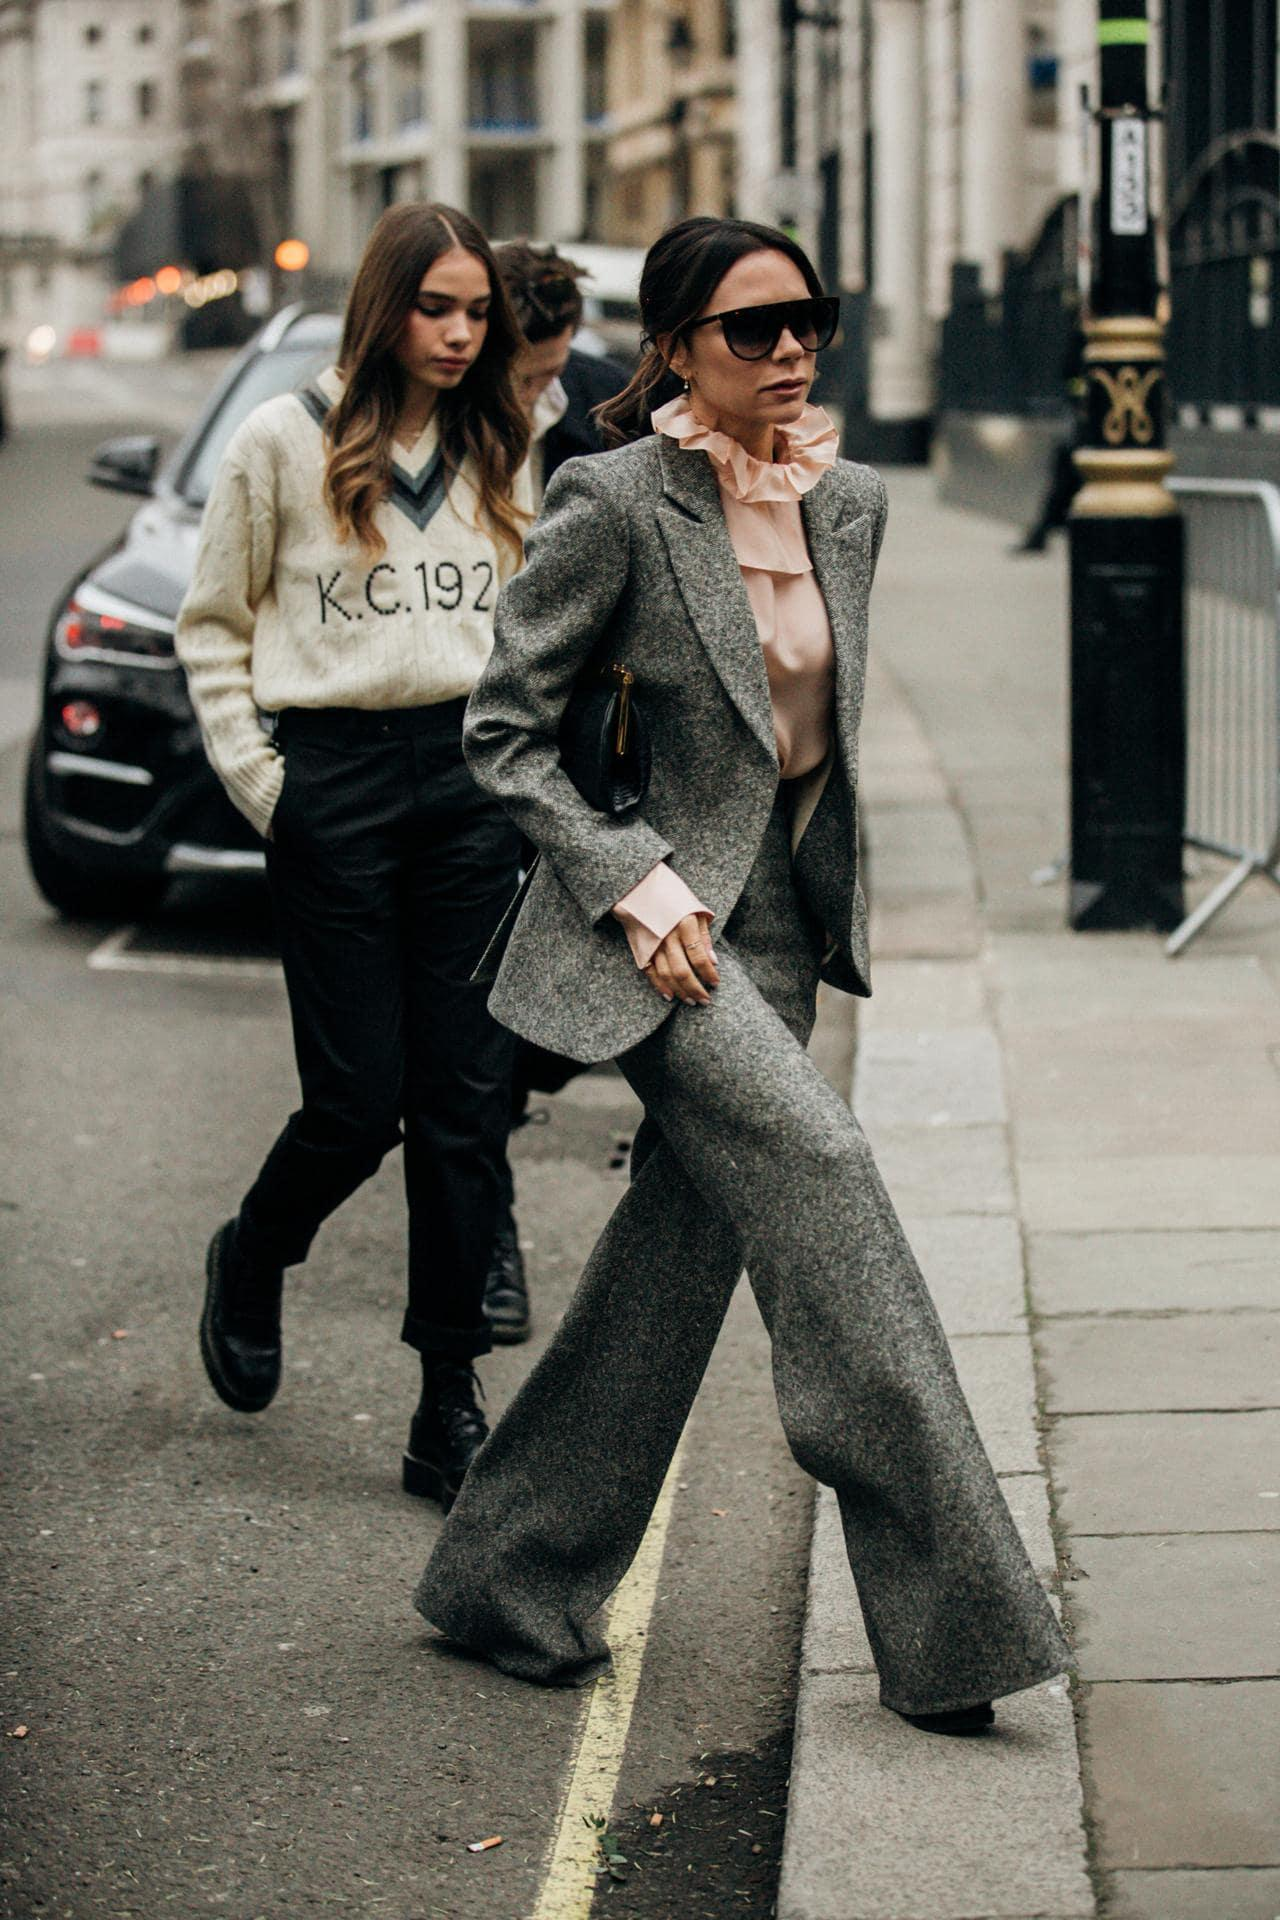Person: (391, 200, 1094, 1738), (172, 178, 572, 1535), (447, 218, 622, 478)
